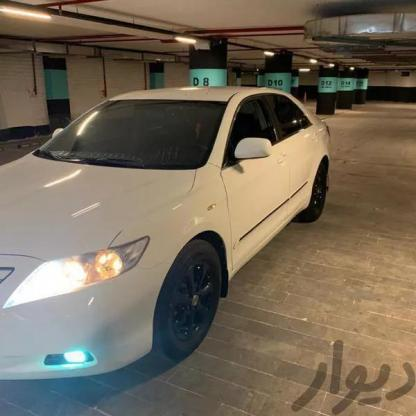Car: (0, 89, 325, 399)
